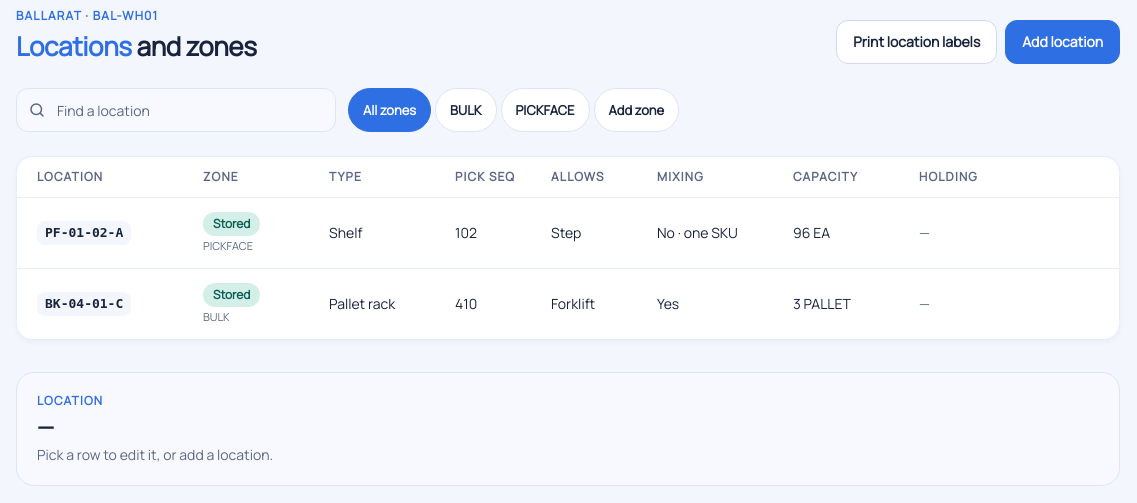
Test: Locations › filters by zone chip
This screenshot has width=1137, height=503.
Check: the text "PF-01-02-A" is shown, box x1=37 y1=221 x2=131 y2=245
Click the button "BULK" at (466, 110), box x1=435 y1=88 x2=497 y2=132
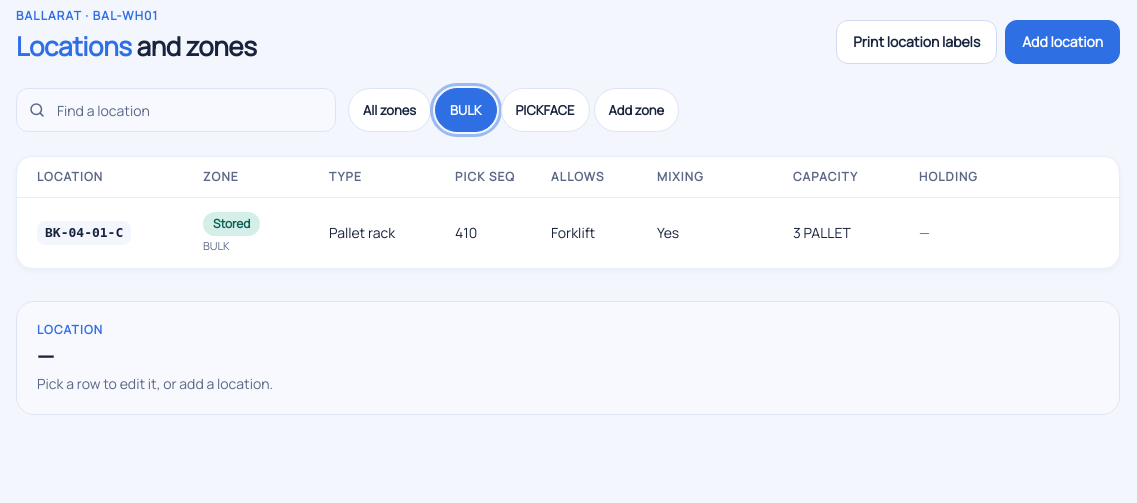
Check: the text "BK-04-01-C" is shown, box x1=37 y1=221 x2=131 y2=245
Check: the button "PF-01-02-A" is gone
